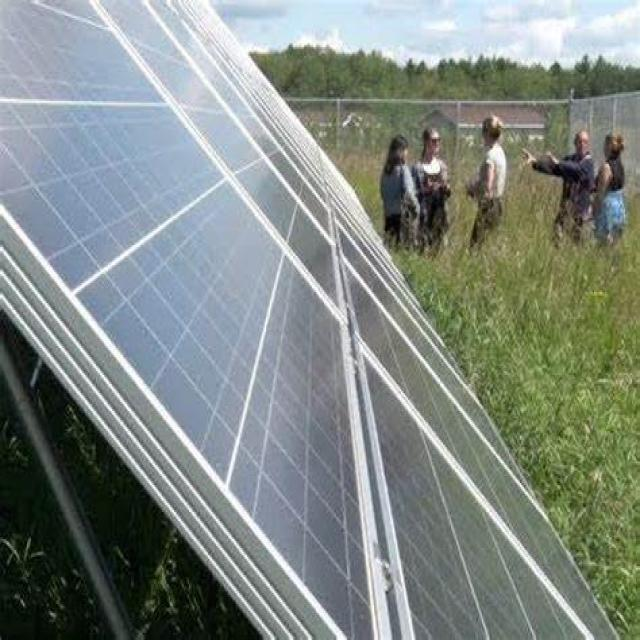clean-solar-panel: (0, 2, 615, 637)
